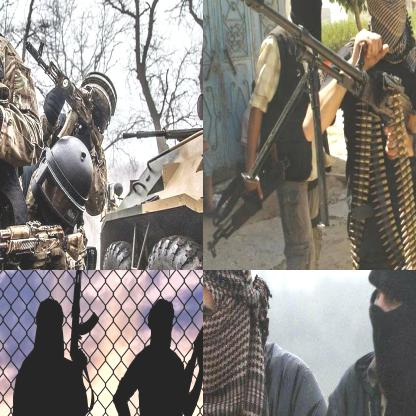rifle: (208, 0, 415, 144), (203, 158, 288, 269), (23, 36, 103, 146), (0, 221, 83, 269), (67, 270, 101, 365), (189, 270, 202, 370)
